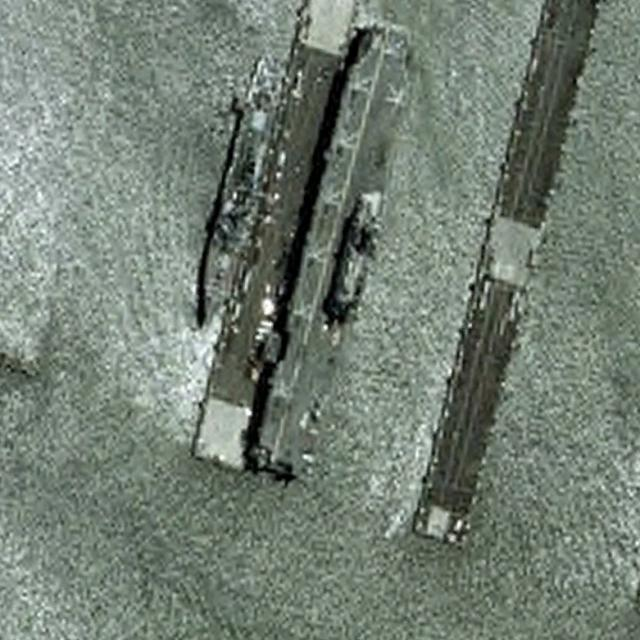Dock: (415, 1, 593, 546), (197, 1, 353, 472)
Landing: (250, 13, 430, 490)
Other Warship: (194, 50, 291, 331)
